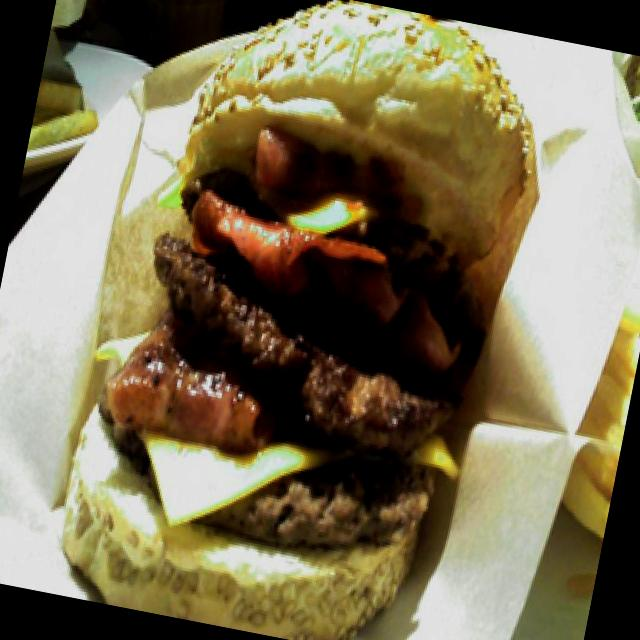Hamburger: (38, 0, 558, 640)
